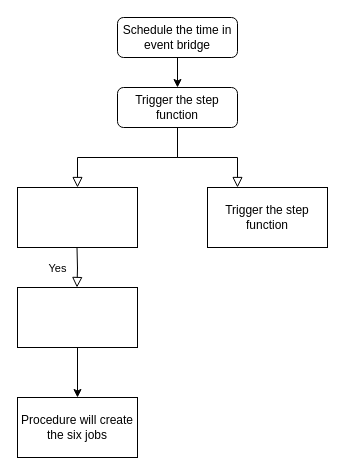
Some shapes in this 345 by 475 pixel diagram are drawn without their labels. Here are the shapes that lost their labels. From the top down, the centre of each, then its label:
the point at 77,217: Trigger the lambda function
the point at 77,317: Lambda function will trigger the oracle procedure
